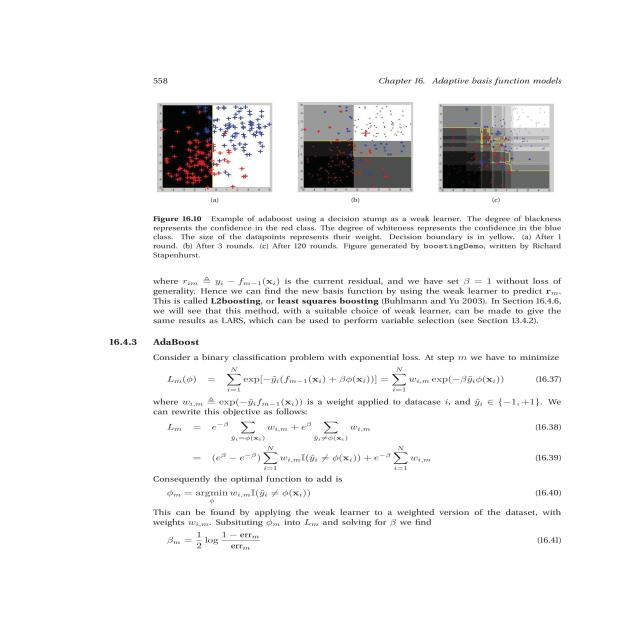diagram: (117, 80, 600, 270)
